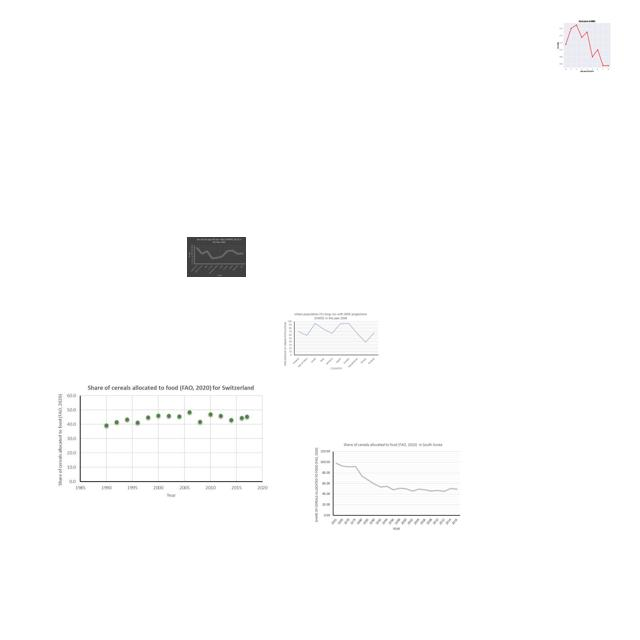Graph: (54, 378, 271, 503), (312, 440, 463, 533), (282, 311, 380, 370), (544, 16, 628, 74), (187, 237, 246, 277)
